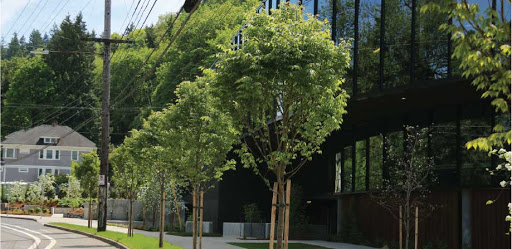tree: (204, 1, 353, 249)
